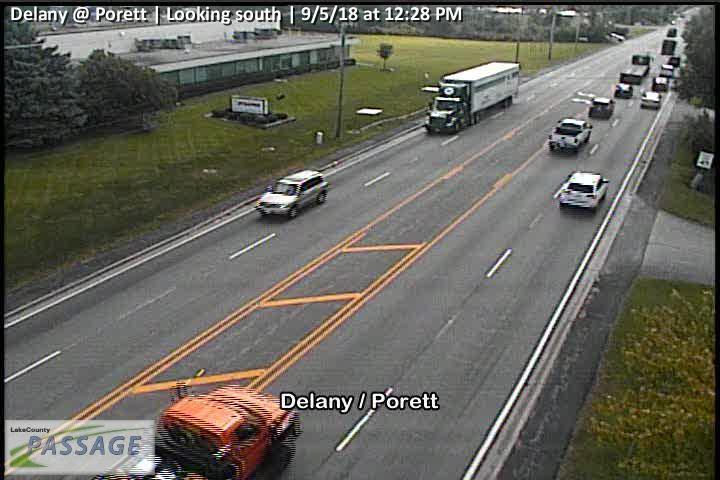SUV: (254, 168, 330, 218)
Sedan: (558, 171, 610, 214), (548, 117, 592, 152), (587, 95, 617, 119), (639, 91, 662, 107), (614, 82, 633, 97)
Truck: (422, 58, 521, 135), (619, 53, 655, 86)
